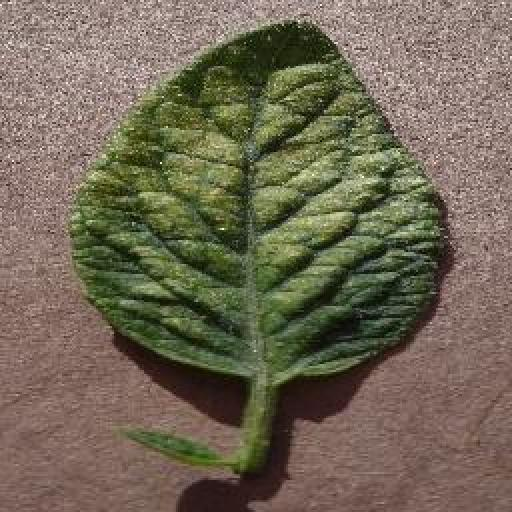disease_tomato: (72, 18, 447, 378)
